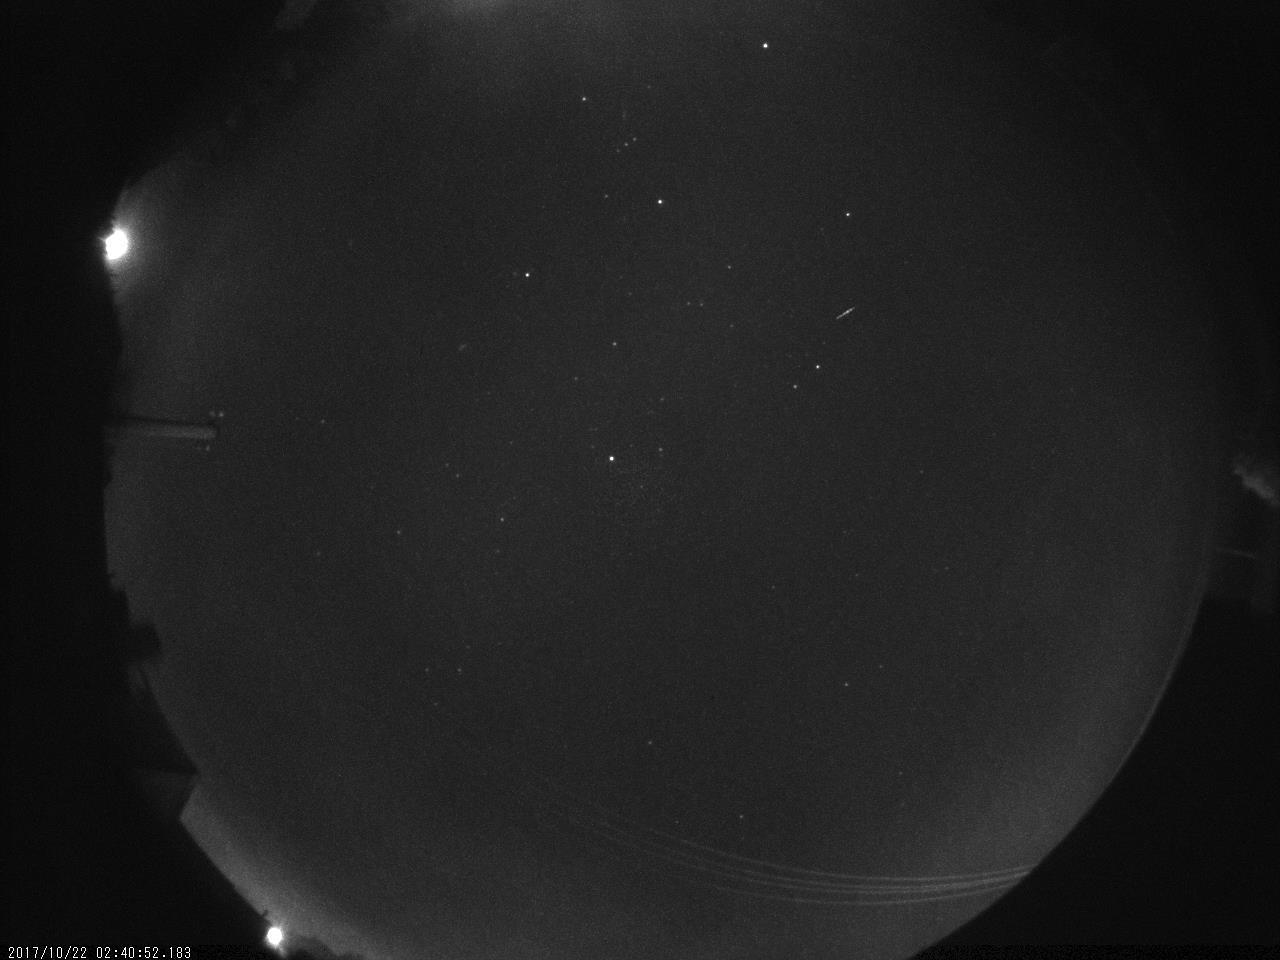Meteor: (831, 301, 862, 324)
